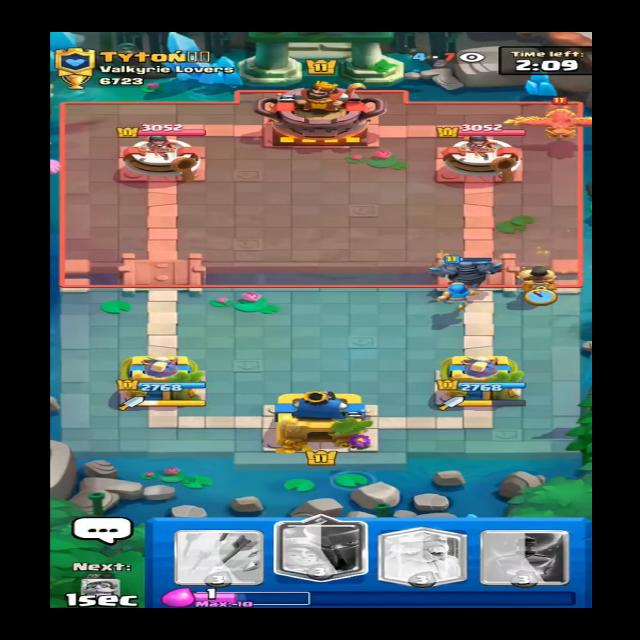phoenix: (504, 95, 619, 138)
